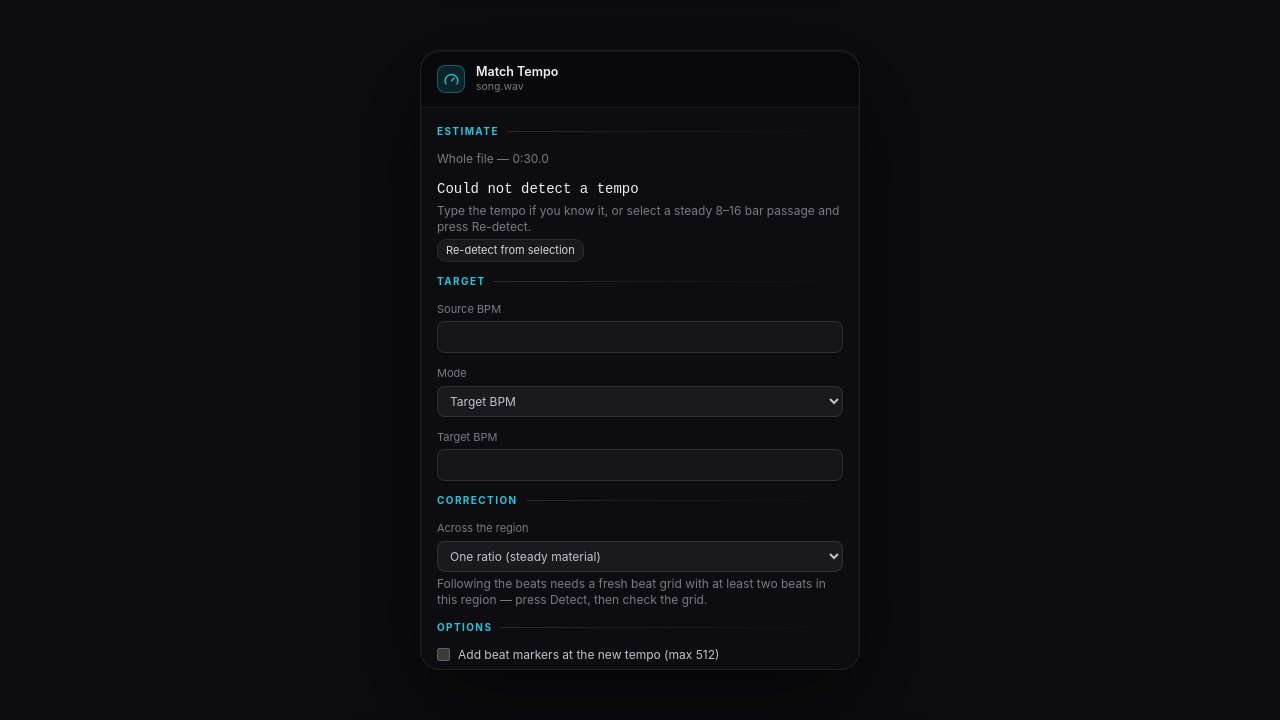
Test: TempoDialog › 3. a null estimate renders the manual-entry hint and Apply stays disabled until a valid Source is typed
The image size is (1280, 720).
expect the text with test id "tempo-detected" reads "Could not detect a tempo": met, box 437,181 -> 639,197
expect the text "Type the tempo if you know it, or select a steady 8–16 bar passage and press Re-detect." is shown: met, box 437,203 -> 839,234
Type "110" into the number field with test id "tempo-target" at coordinates (640, 465), box 437,449 -> 843,481
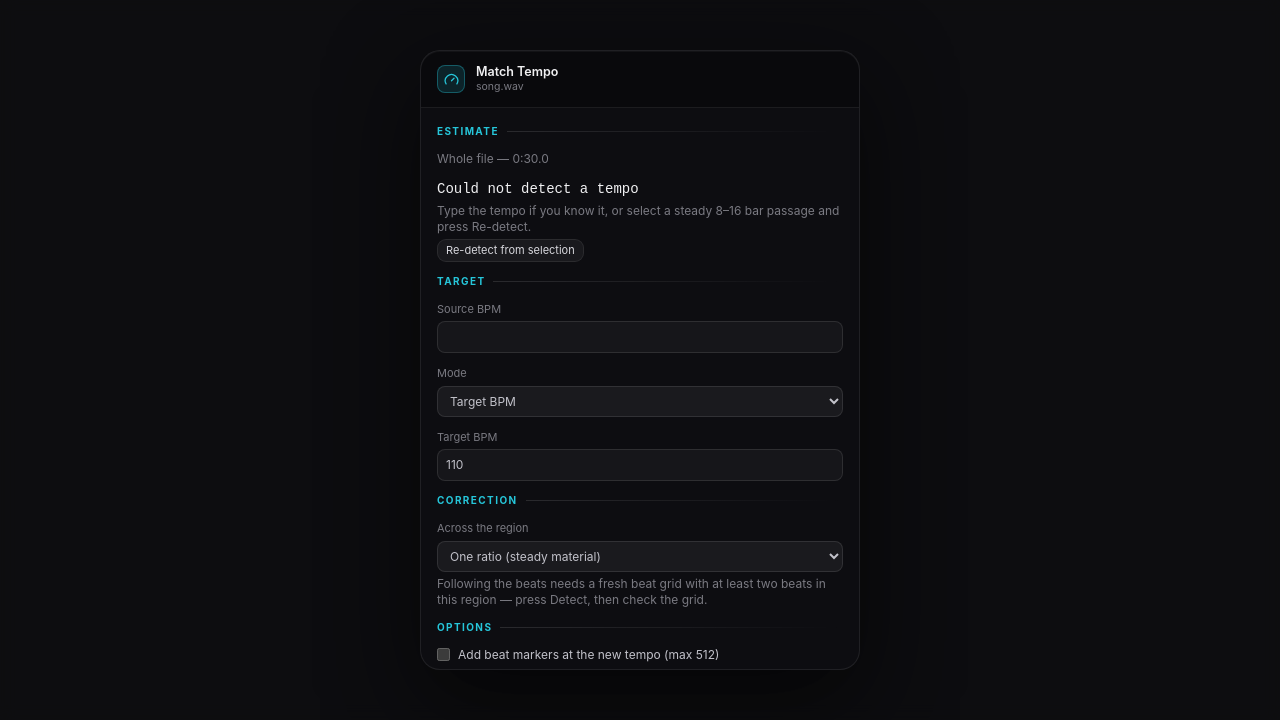
Type "100" into the number field with test id "tempo-source" at coordinates (640, 337), box 437,321 -> 843,353
(page scrolled)
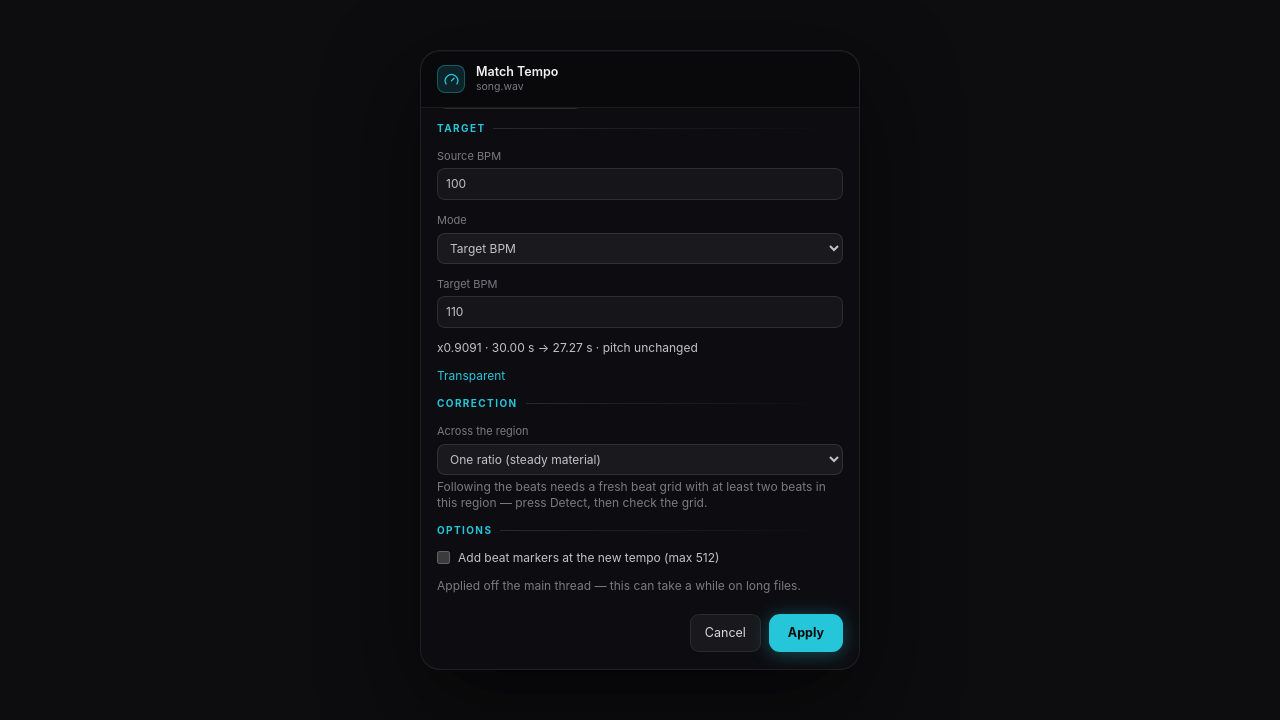
expect the button "Apply" is enabled: met, box 769,614 -> 843,652
